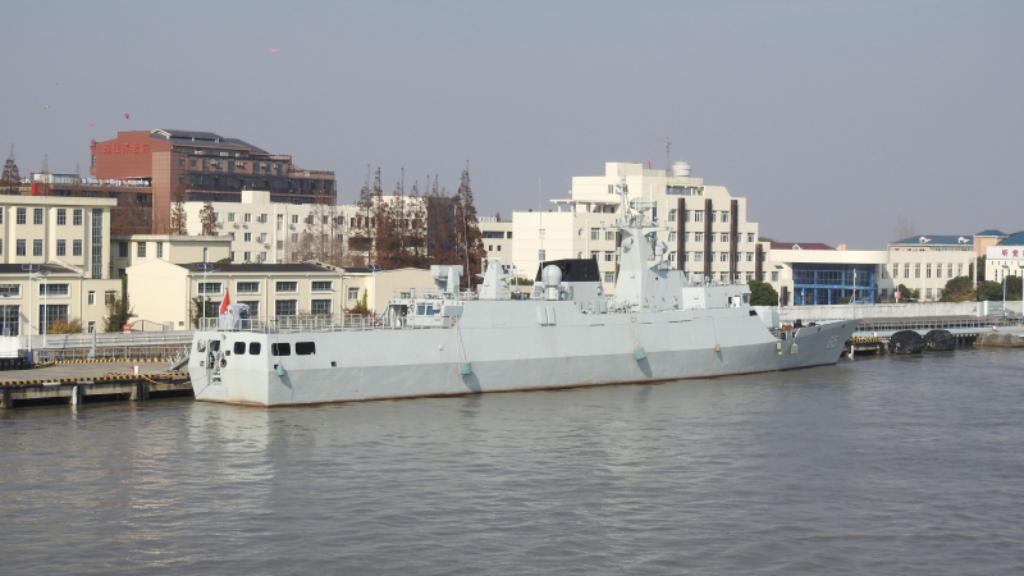Warship: (186, 200, 860, 410)
